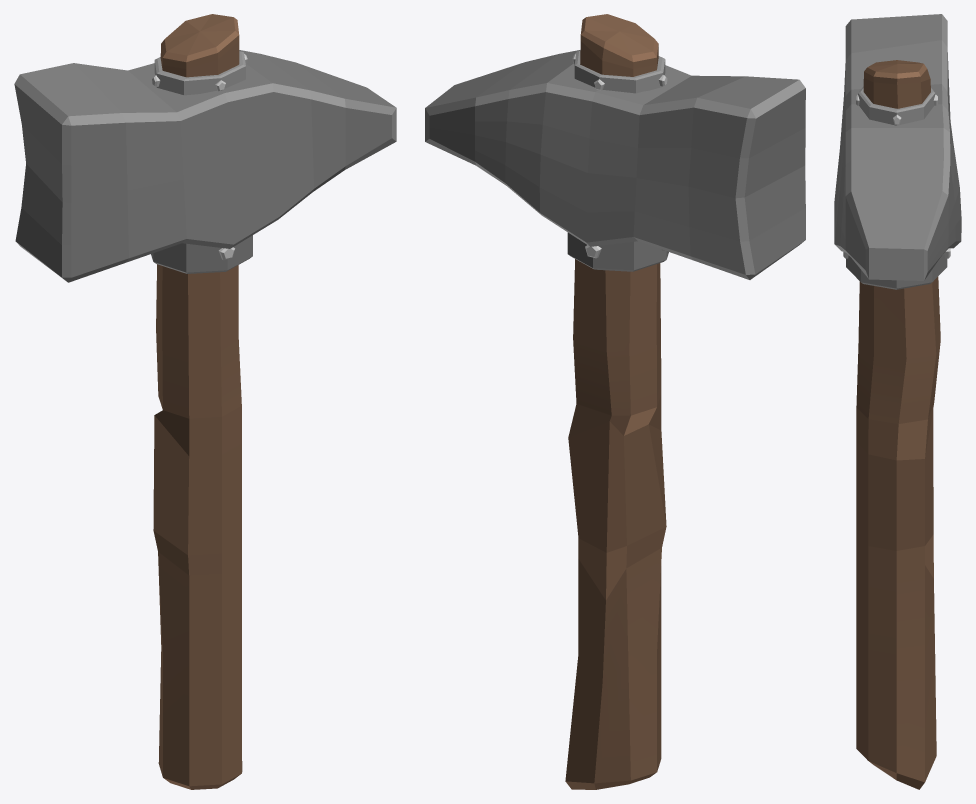
The model's file is Hammer2.fbx.
3 renders of one model, left to right at view 1: azimuth 30°, elevation 25°; view 2: azimuth 150°, elevation 25°; view 3: azimuth 270°, elevation 25°, orthographic. The views are drawn at different scales.
Visible parts, largest first — view 1: Hammer2; view 2: Hammer2; view 3: Hammer2.
Boxes of the visible parts, bbox=[...] form: Hammer2: bbox=[14, 14, 396, 789]; Hammer2: bbox=[425, 14, 805, 789]; Hammer2: bbox=[834, 14, 961, 789].
Size of the model in its own units: 30.19 by 64.49 by 10.39.
